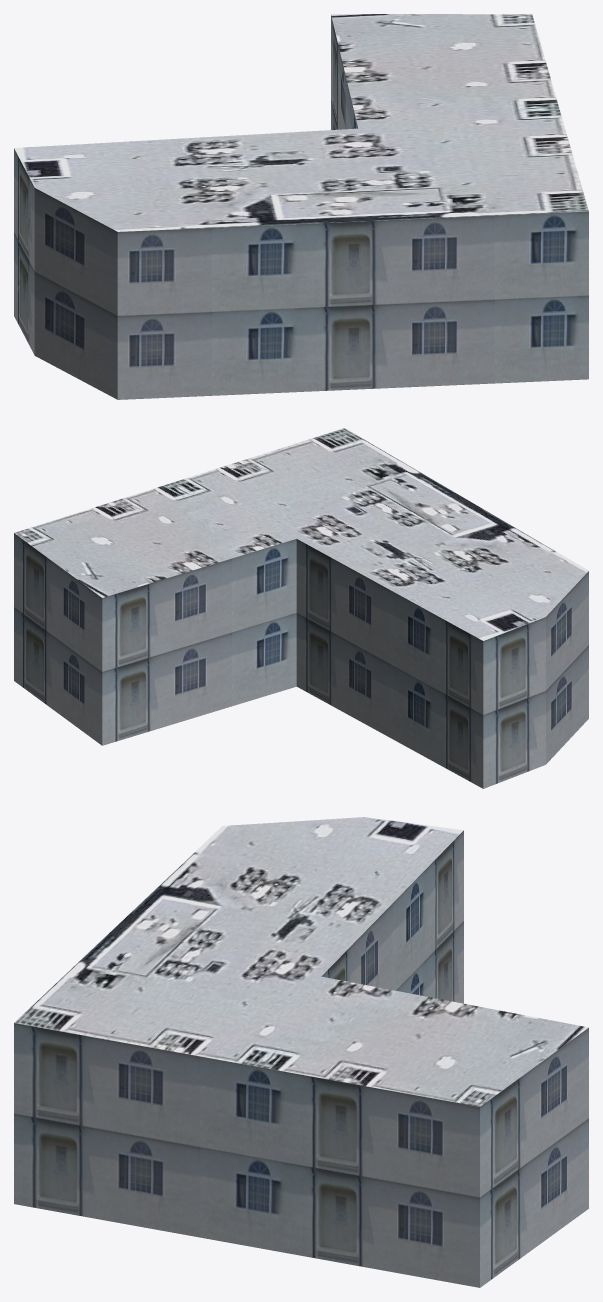
File: ResTex__3014.fbx
3 renders of one model, top to bottom at view 1: azimuth 30°, elevation 25°; view 2: azimuth 150°, elevation 25°; view 3: azimuth 270°, elevation 25°, orthographic. The views are drawn at different scales.
Visible parts, largest first — view 1: CityEngineMaterial_17_m, CityEngineMaterial_8_m; view 2: CityEngineMaterial_17_m, CityEngineMaterial_8_m; view 3: CityEngineMaterial_17_m, CityEngineMaterial_8_m.
Boxes of the visible parts, x1,y1,x2,y2 form: CityEngineMaterial_17_m: [14, 15, 588, 399]; CityEngineMaterial_8_m: [14, 14, 588, 231]; CityEngineMaterial_17_m: [14, 533, 588, 788]; CityEngineMaterial_8_m: [14, 428, 588, 640]; CityEngineMaterial_17_m: [14, 830, 588, 1287]; CityEngineMaterial_8_m: [14, 817, 588, 1106].
Size of the model in its own units: 20.59 by 6 by 17.26.
Materials: 2 (2 with a texture image).
